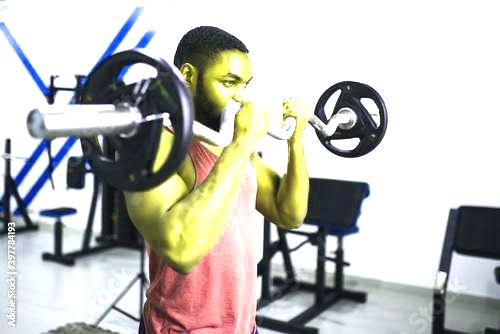Barbell: (25, 104, 52, 143)
